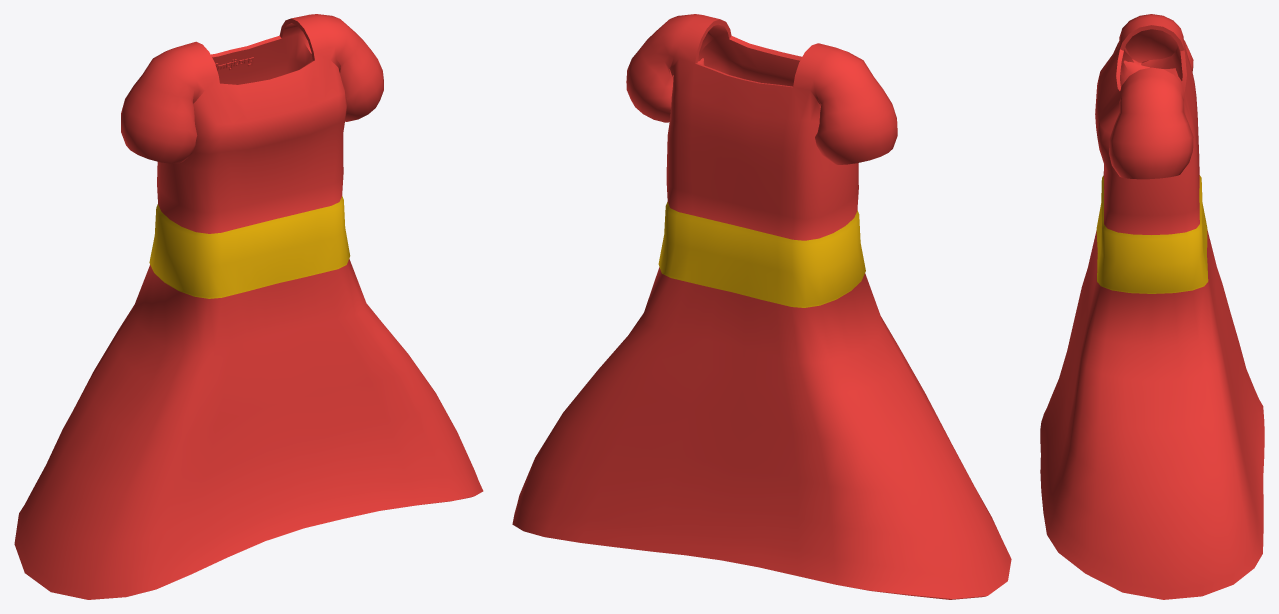
Rendered from dress.fbx.
3 views of the same model, side by side, from view 1: azimuth 30°, elevation 25°; view 2: azimuth 150°, elevation 25°; view 3: azimuth 270°, elevation 25° (orthographic). The views are drawn at different scales.
Visible parts, largest first — view 1: Circle.1791; view 2: Circle.1791; view 3: Circle.1791.
Boxes of the visible parts, x1,y1,x2,y2 form: Circle.1791: (14, 14, 483, 599); Circle.1791: (512, 14, 1011, 599); Circle.1791: (1040, 14, 1264, 599).
Size of the model in its own units: 210 by 228 by 101.
Materials: 1 (1 with a texture image).
